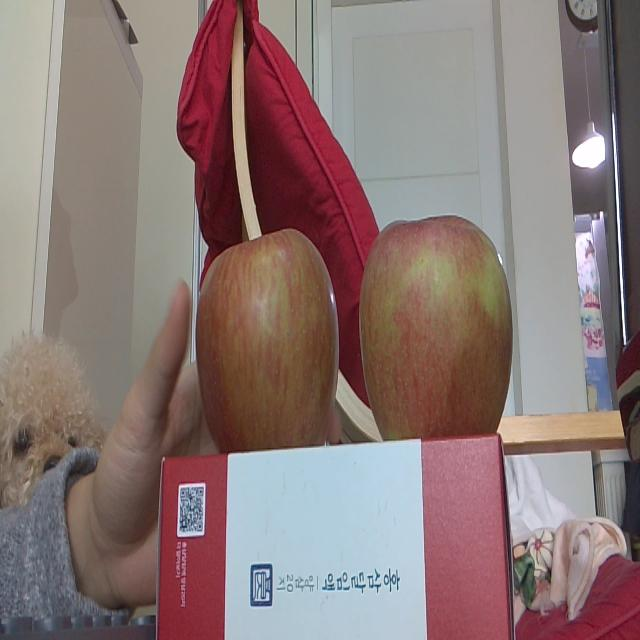apple: (357, 212, 518, 438), (192, 227, 338, 443)
